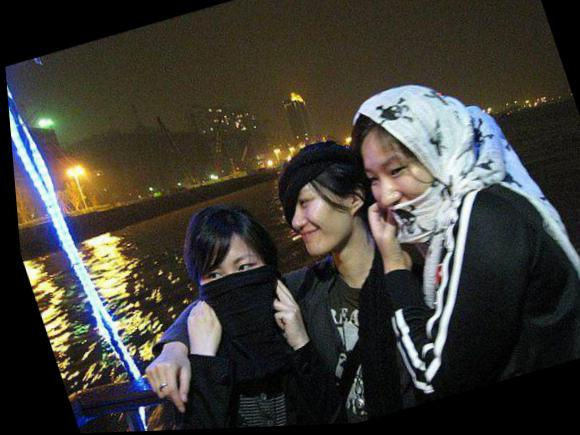NONE: (278, 179, 341, 264)
OK: (185, 238, 279, 333)
WRONG: (357, 138, 447, 243)
